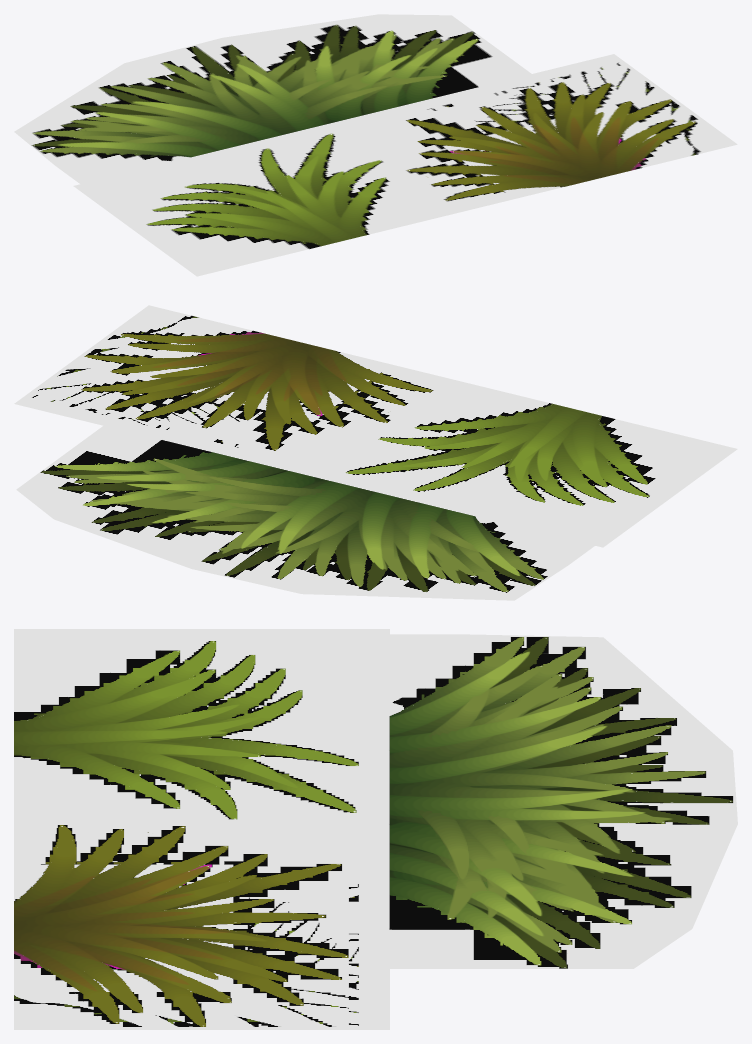
The model's file is Grass.FBX.
The picture shows the model from 3 angles, top to bottom: view 1: azimuth 30°, elevation 25°; view 2: azimuth 150°, elevation 25°; view 3: azimuth 270°, elevation 25°; orthographic projection. The views are drawn at different scales.
Parts seen in each view (by area): view 1: Plane001, Object002, Object001; view 2: Plane001, Object002, Object001; view 3: Plane001, Object002, Object001.
Part boxes in pixels (<box>): Plane001: <box>14,14,531,183</box>; Object002: <box>337,54,737,212</box>; Object001: <box>73,121,459,276</box>; Plane001: <box>16,426,594,600</box>; Object002: <box>14,305,450,477</box>; Object001: <box>316,379,737,547</box>; Plane001: <box>390,634,737,968</box>; Object002: <box>14,824,389,1029</box>; Object001: <box>14,629,389,824</box>.
Bounding box in the file's own units: 82.42 × 3.85e-15 × 62.9.
Materials: 1 (1 with a texture image).
